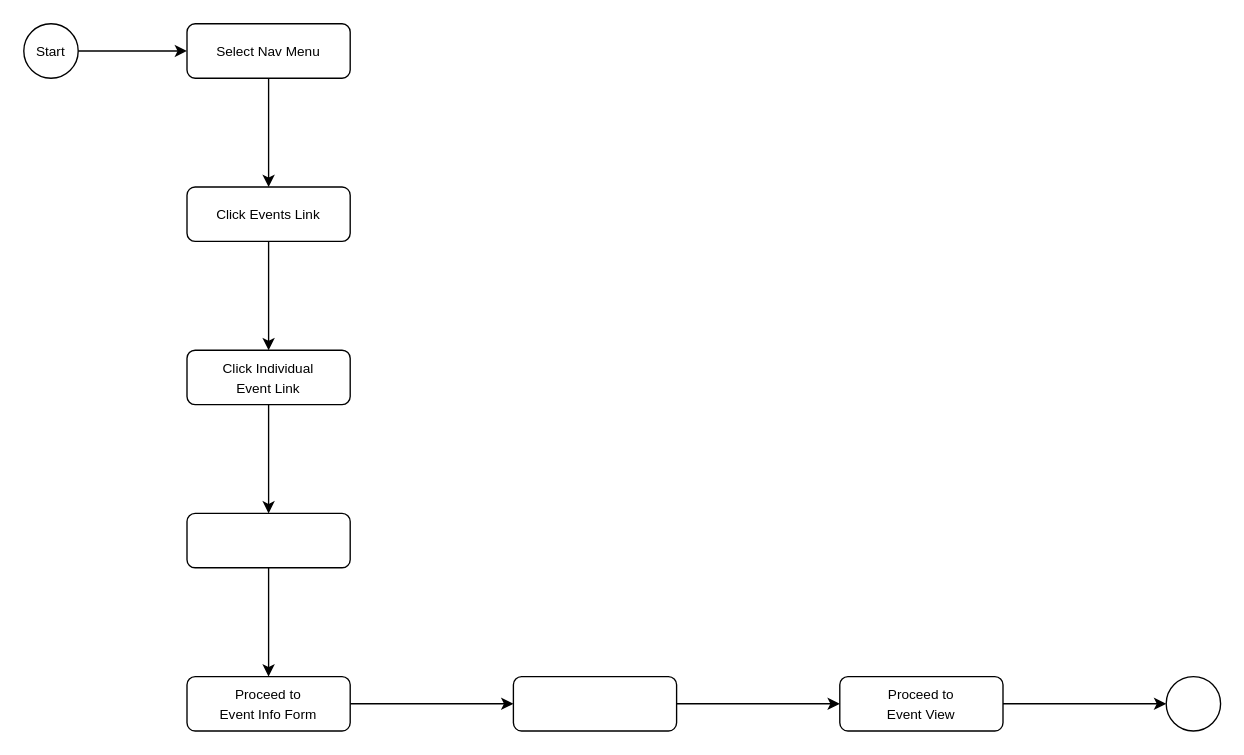
The diagram is 1244 pixels wide and 755 high, and some of its shapes have lost their labels. The centre of each missing label's shape, as x and y in pixels:
"Click Edit Button" belongs at point 268,540.
"Complete Event Info Form" belongs at point 594,703.
"Finish" belongs at point 1193,703.
